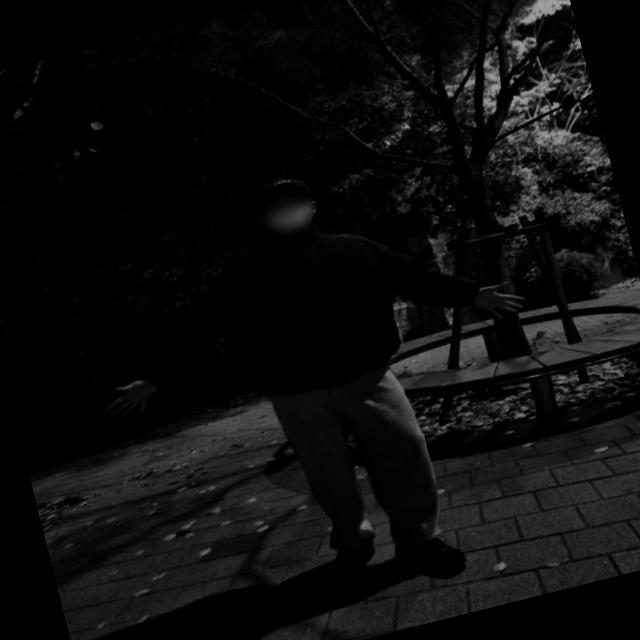padding: (114, 186, 496, 428), (268, 354, 462, 568)
